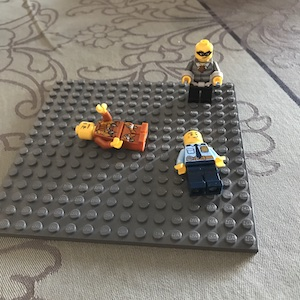Lego: (171, 129, 228, 198), (73, 105, 149, 153), (180, 38, 225, 107)
